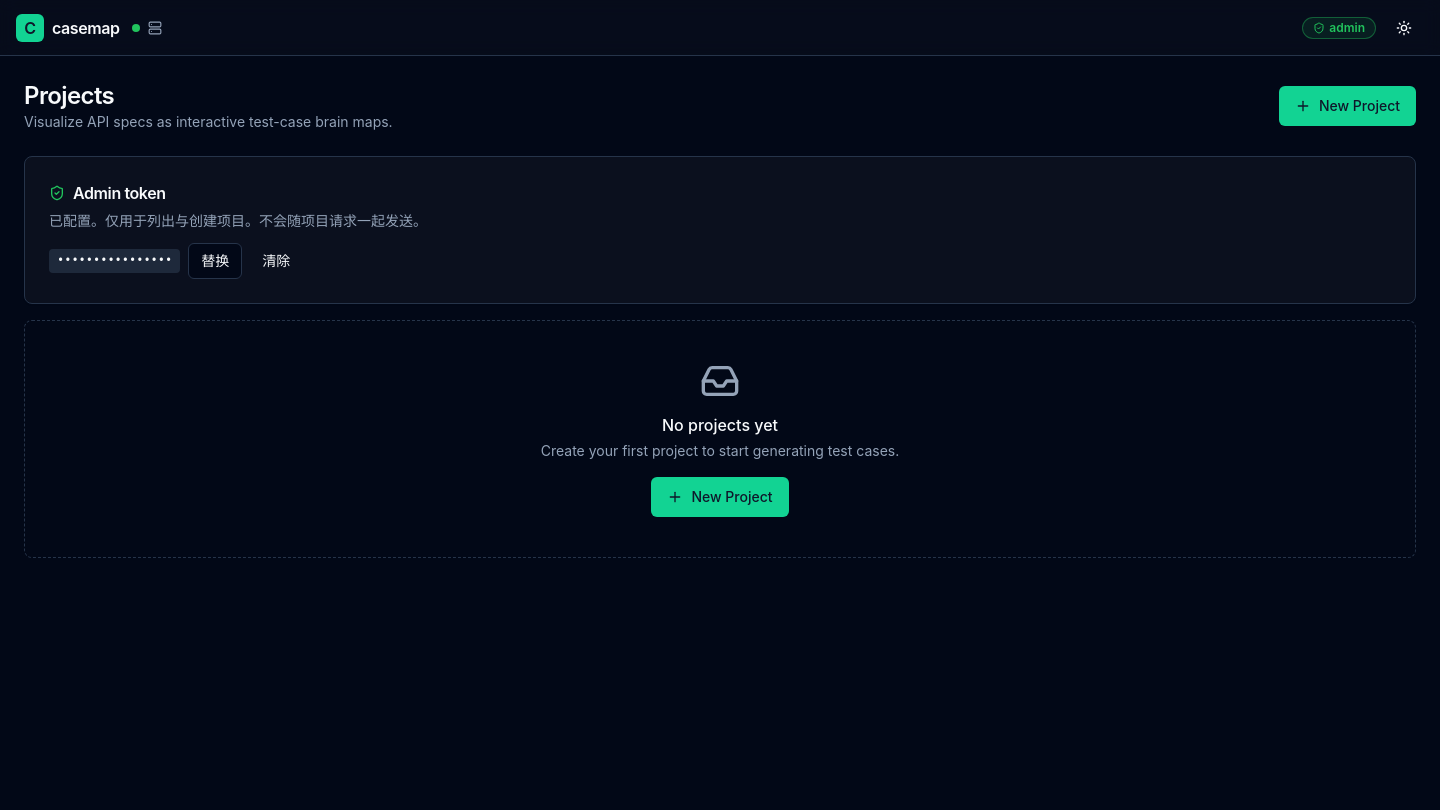
Scenario: <HomePage /> admin token › clears admin token when "清除" button is clicked
This screenshot has width=1440, height=810.
Step 1. Click the button with aria-label "Clear admin token" → (276, 261), box [250,243,302,279]
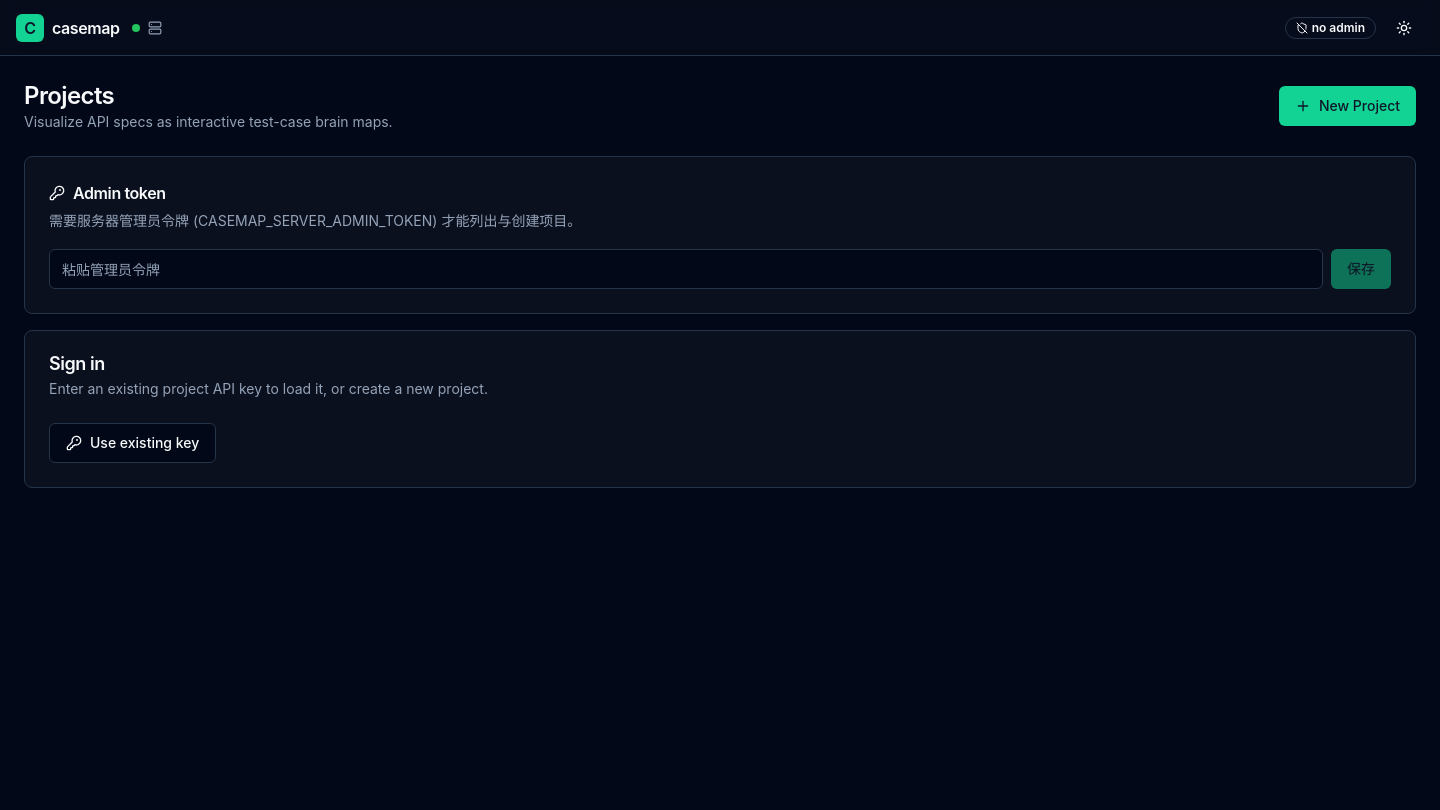
Result: the password field named "Admin token" is shown at [49,249,1323,289]
